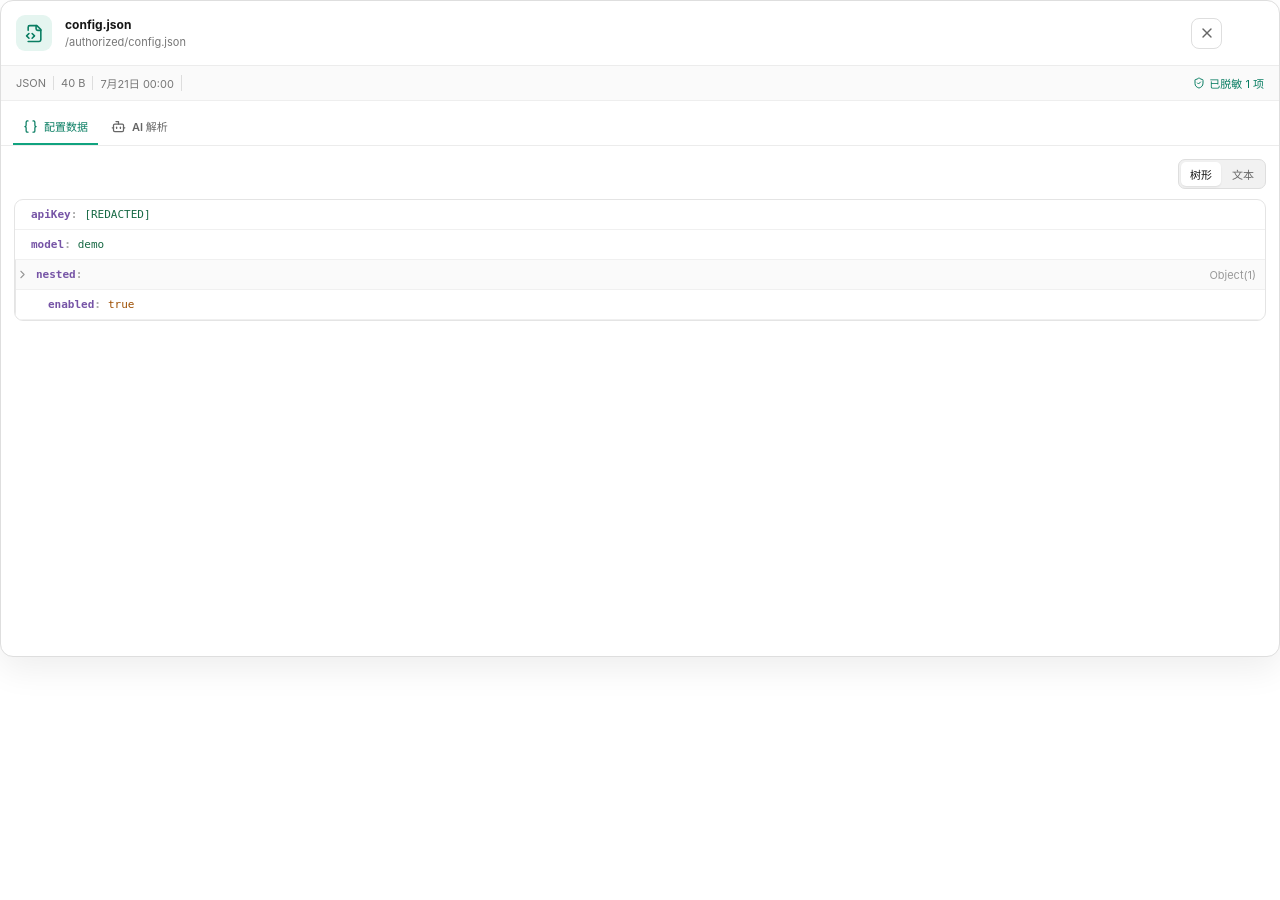
Test: ConfigDetail › displays a valid cached analysis without requesting the model again
Click the button "AI 解析": click(139, 127) [101,109,178,145]
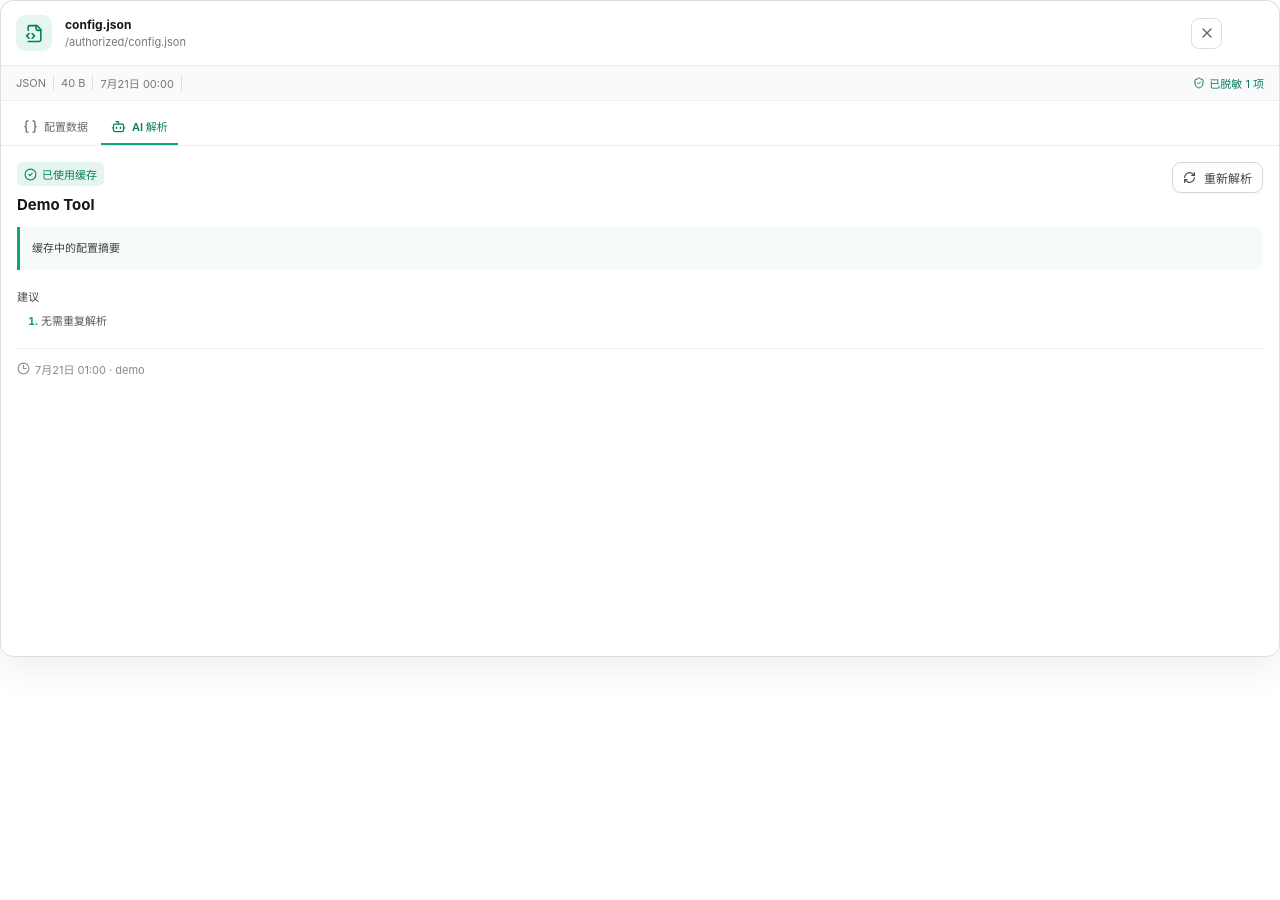
Now the text "缓存中的配置摘要" is shown, box [17,227,1263,270]
Now the text "已使用缓存" is shown, box [17,162,104,186]
